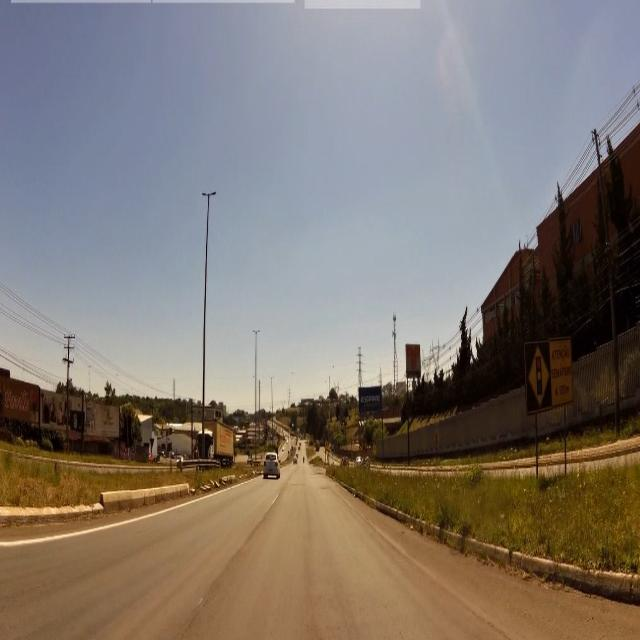A-14: (529, 342, 549, 408)
